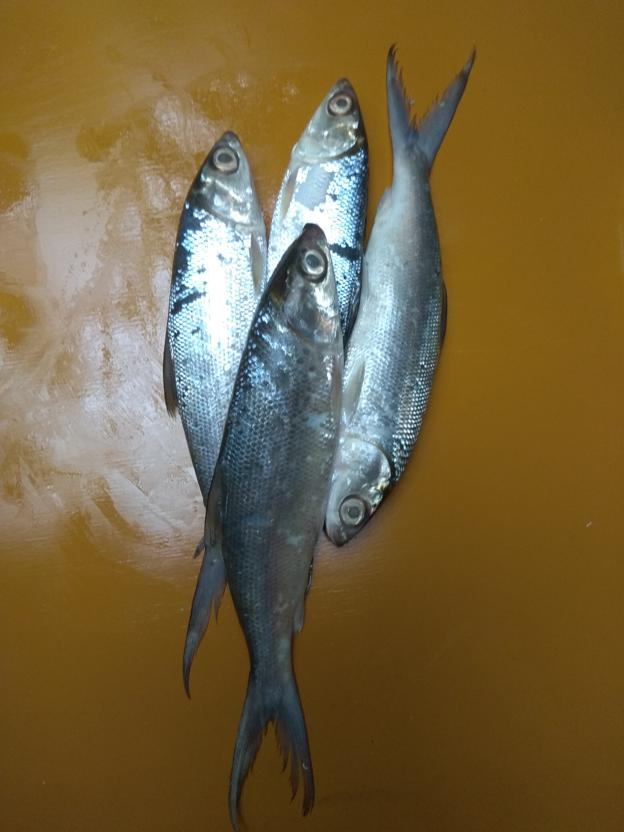Fish head: (261, 225, 345, 350), (322, 436, 397, 550), (187, 129, 267, 229), (288, 74, 370, 165)
Fish tail: (229, 663, 318, 832), (384, 38, 482, 163), (179, 538, 232, 697)
